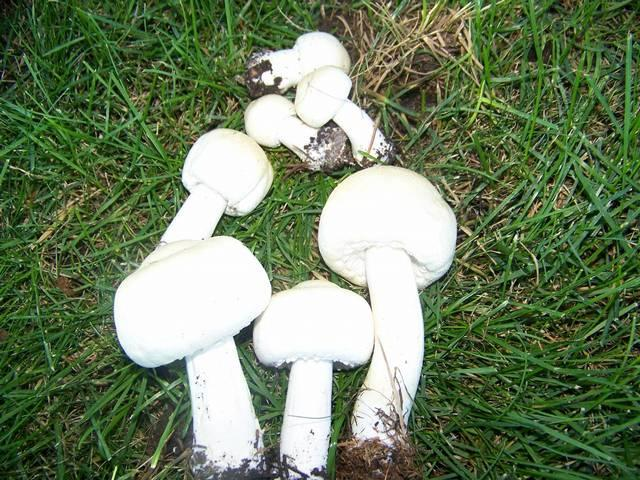Non-edible Mushroom: (316, 163, 458, 449), (112, 234, 272, 478), (251, 278, 374, 478), (236, 33, 399, 169), (157, 126, 274, 246)
